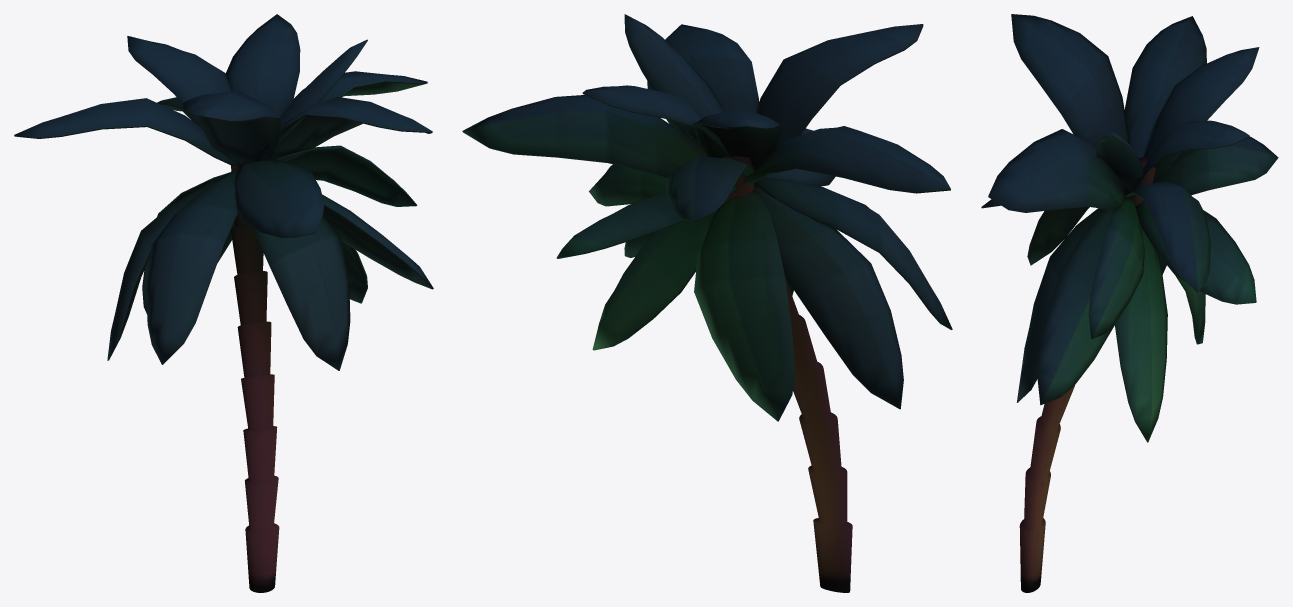
The model's file is Swamp_Tree.glb.
The picture shows the model from 3 angles, left to right: view 1: azimuth 30°, elevation 25°; view 2: azimuth 150°, elevation 25°; view 3: azimuth 270°, elevation 25°; orthographic projection. The views are drawn at different scales.
Parts seen in each view (by area): view 1: Plane.001; view 2: Plane.001; view 3: Plane.001.
Boxes of the visible parts, x1,y1,x2,y2 form: Plane.001: [14, 14, 433, 592]; Plane.001: [462, 14, 952, 592]; Plane.001: [981, 14, 1278, 592].
Size of the model in its own units: 174 by 198 by 98.78.
1 material, 1 textured.
